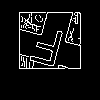F: (25, 25, 67, 77)
